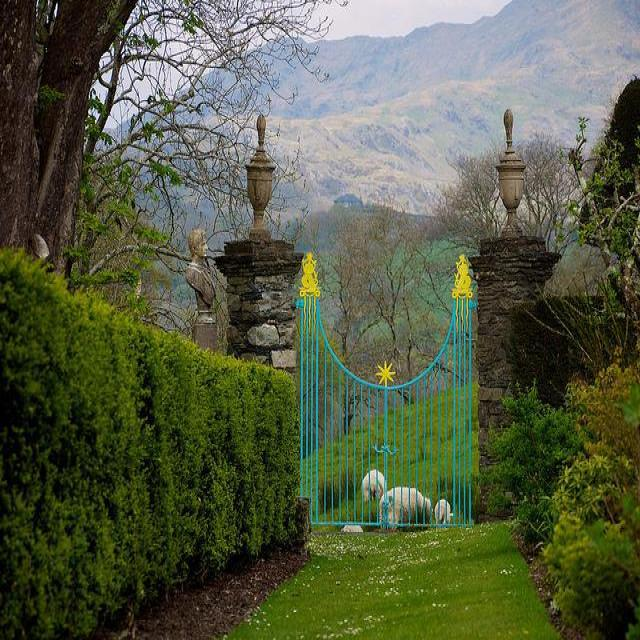Sheep: (363, 469, 434, 532)
